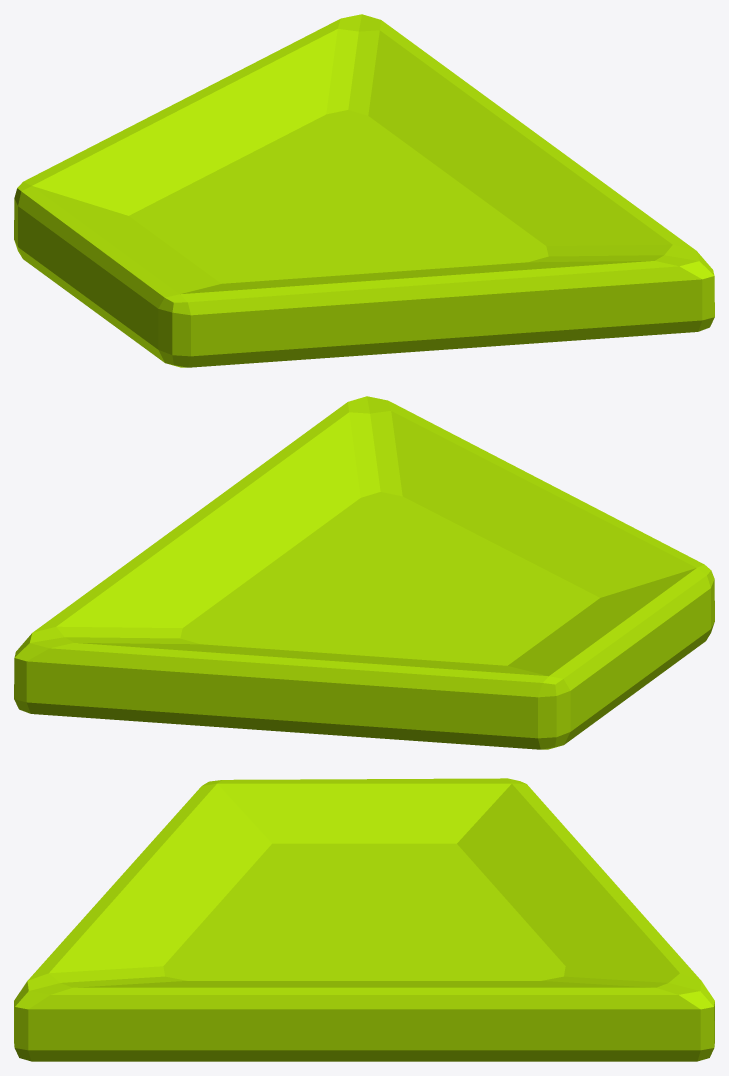
The model's file is MovingPart_transformed_1.fbx.
The picture shows the model from 3 angles, top to bottom: view 1: azimuth 30°, elevation 25°; view 2: azimuth 150°, elevation 25°; view 3: azimuth 270°, elevation 25°; orthographic projection.
Parts seen in each view (by area): view 1: Cube; view 2: Cube; view 3: Cube.
Boxes of the visible parts, x1,y1,x2,y2 form: Cube: (14, 14, 714, 367); Cube: (14, 396, 714, 749); Cube: (14, 778, 714, 1061).
Size of the model in its own units: 95.79 by 14.86 by 128.
